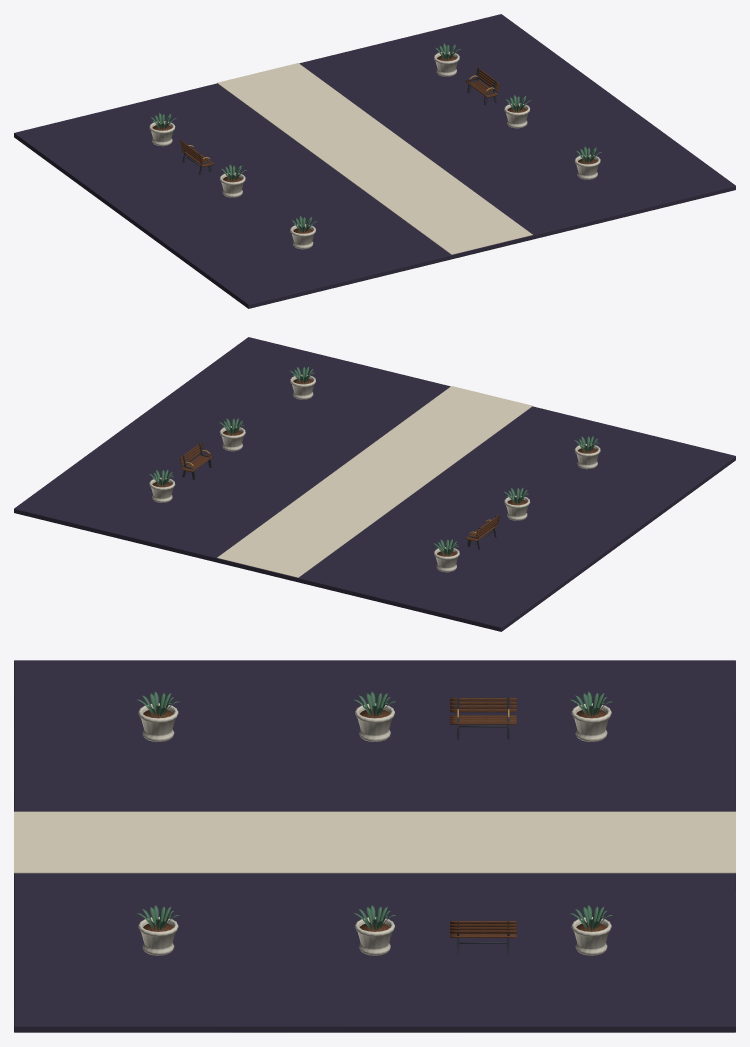
Rendered from finish_park_garden.glb.
3 renders of one model, top to bottom at view 1: azimuth 30°, elevation 25°; view 2: azimuth 150°, elevation 25°; view 3: azimuth 270°, elevation 25°, orthographic. The views are drawn at different scales.
Parts seen in each view (by area): view 1: exterior_garden_path; view 2: exterior_garden_path; view 3: exterior_garden_path.
Part boxes in pixels (bbox=[...]): exterior_garden_path: bbox=[14, 14, 735, 308]; exterior_garden_path: bbox=[14, 337, 735, 631]; exterior_garden_path: bbox=[14, 660, 735, 1032].
Size of the model in its own units: 24 by 1.36 by 20.
7 materials, 1 textured.
